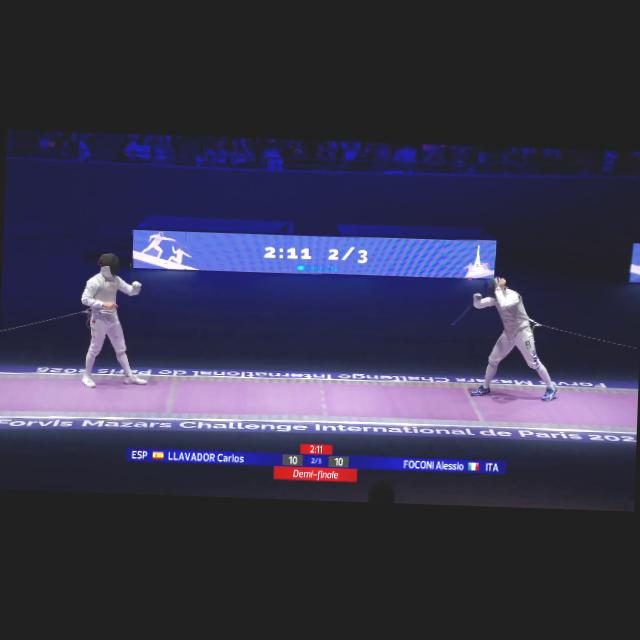blade: (452, 293, 482, 329)
